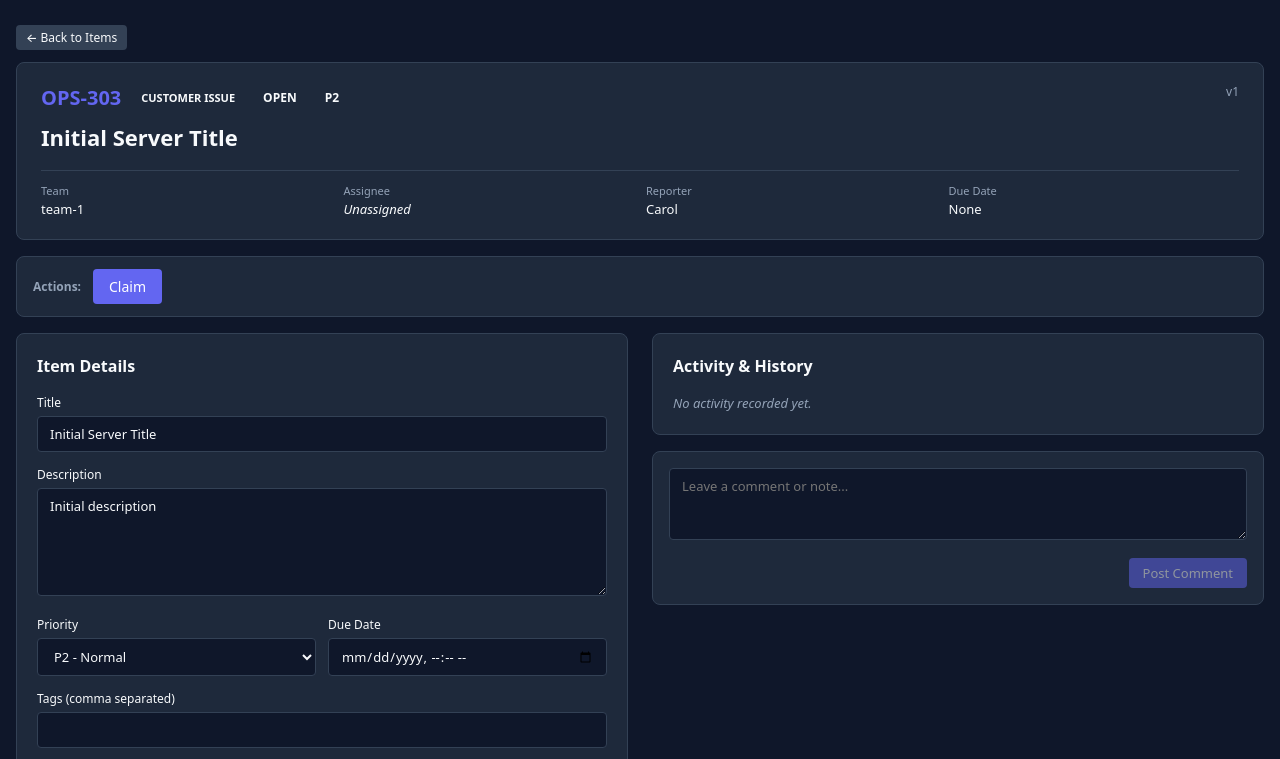
Test: stale-banner › shows StaleBanner on SSE signal when form is dirty without overwriting draft
Expected: the text "OPS-303" is shown, [41,83,121,113]
Note: User edits the form (making it dirty)
Replace the text in the 1st field showing "Initial Server Title" with "My Unsaved Draft Changes" at (322,434), box [37,416,607,452]
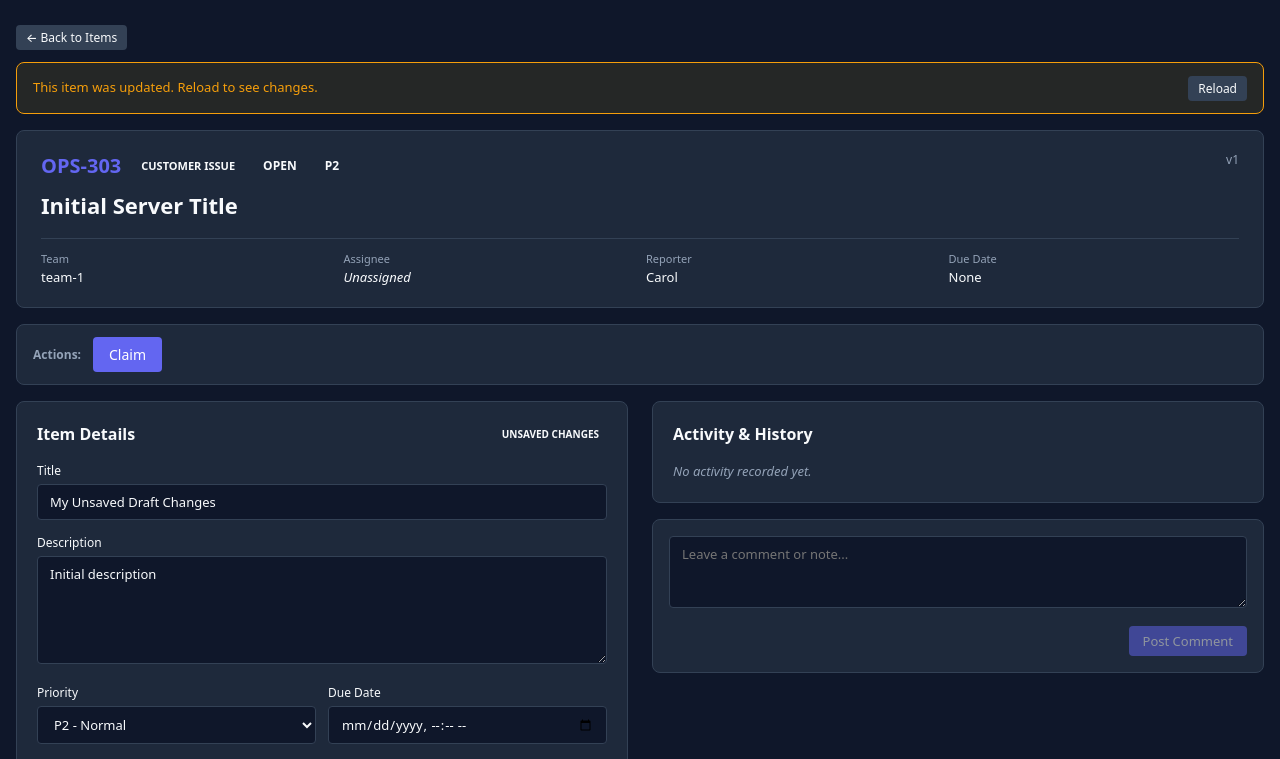
Expected: the text "This item was updated. Reload to see changes." is shown, [33,78,318,98]
Note: Clicking Reload on StaleBanner reloads server truth
Click the button "Reload" at (1218,88), box [1188,76,1247,101]
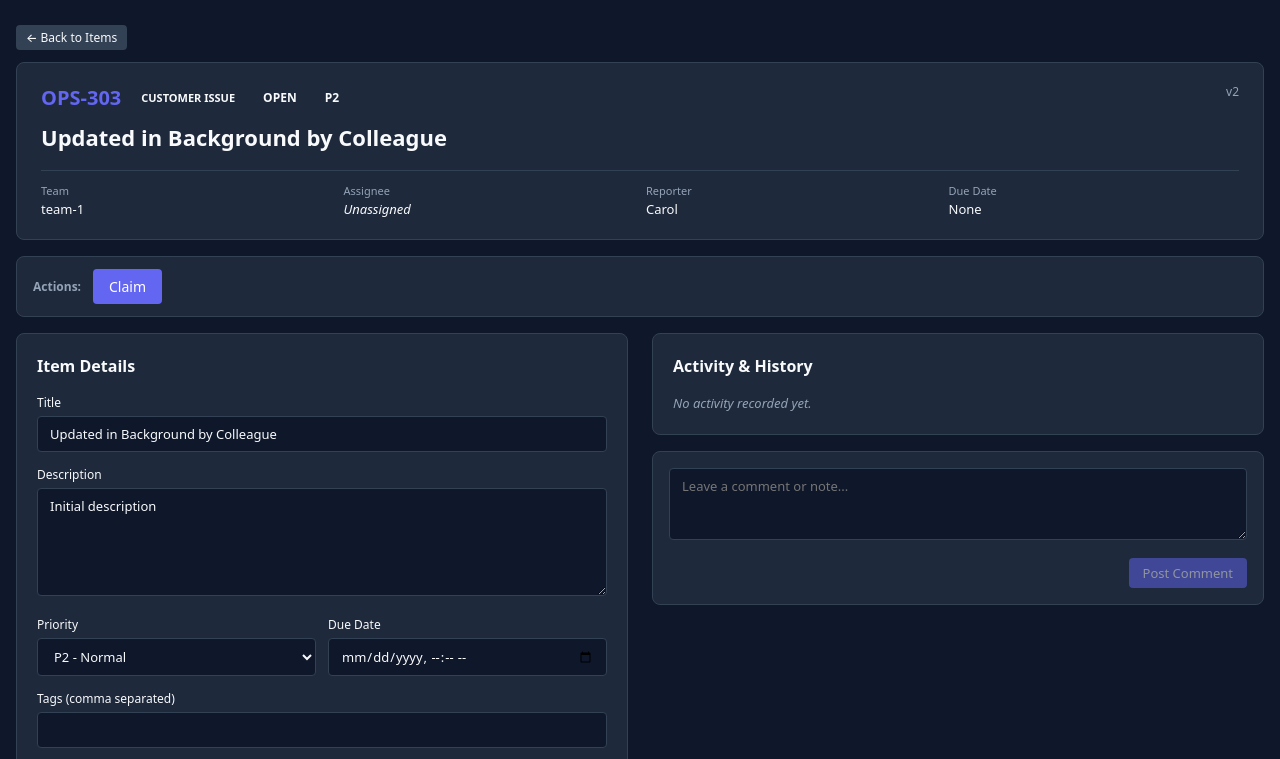
Expected: the text "This item was updated" is gone
Expected: the field showing "Updated in Background by Colleague" below "Title" is shown, [37,416,607,452]
